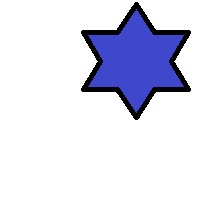star: (81, 1, 192, 121)
